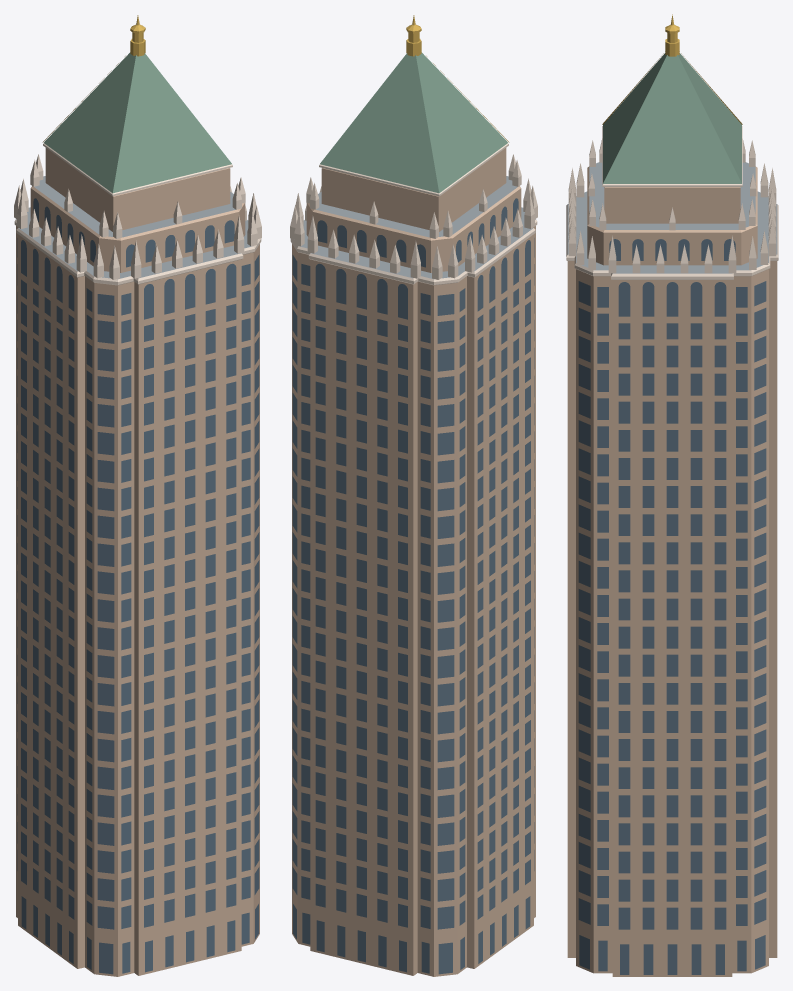
File: atl-one-atlantic-center.glb
3 renders of one model, left to right at view 1: azimuth 30°, elevation 25°; view 2: azimuth 150°, elevation 25°; view 3: azimuth 270°, elevation 25°, orthographic.
Visible parts, largest first — view 1: One Atlantic Center; view 2: One Atlantic Center; view 3: One Atlantic Center.
Boxes of the visible parts, <box> form: One Atlantic Center: <box>14,15,261,976</box>; One Atlantic Center: <box>290,15,537,976</box>; One Atlantic Center: <box>566,14,778,976</box>.
Bounding box in the file's own units: 52.5 × 250 × 52.5.
